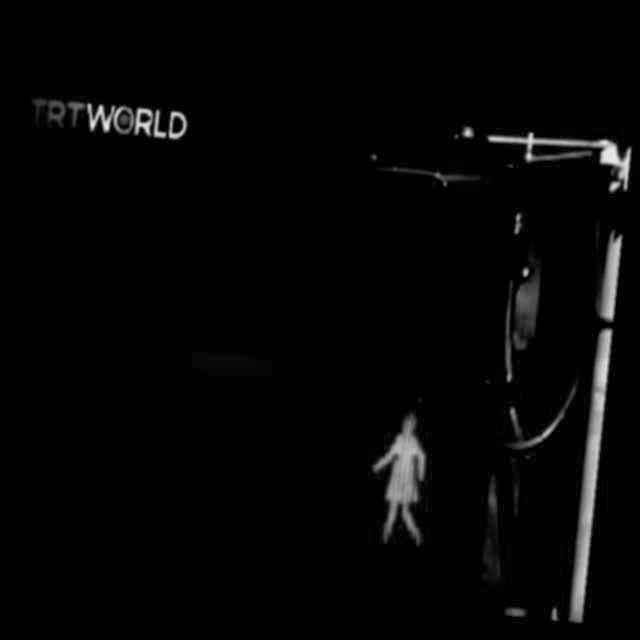semaforo pedestre: (232, 115, 599, 610)
